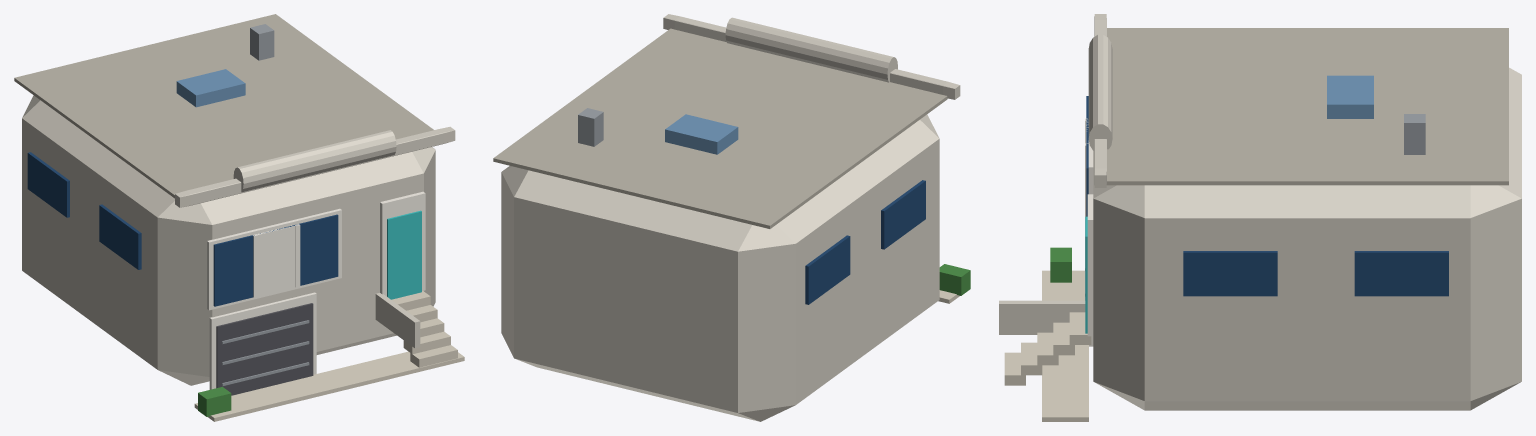
Rendered from sunset_w9_curved_pic.glb.
The picture shows the model from 3 angles, left to right: view 1: azimuth 30°, elevation 25°; view 2: azimuth 150°, elevation 25°; view 3: azimuth 270°, elevation 25°; orthographic projection. The views are drawn at different scales.
Visible parts, largest first — view 1: walls, roofslab, gdoor, pwin, patio, pcurve, door, pmull, pp1, gfr, pfr, skylt (+9 smaller); view 2: walls, roofslab, pcurve, skylt, pp1, sb.002, sb, pipe, hedge; view 3: walls, roofslab, sb.001, sb.003, patio, pcurve, srail, skylt, dfr, pp1, pipe, hedge (+5 smaller).
Part boxes in pixels (x1,y1,x2,y2): walls: [22, 95, 435, 385]; roofslab: [14, 14, 433, 198]; gdoor: [216, 303, 313, 395]; pwin: [213, 214, 338, 306]; patio: [194, 351, 464, 421]; pcurve: [233, 130, 396, 192]; door: [387, 210, 421, 299]; pmull: [257, 225, 295, 296]; pp1: [175, 126, 455, 207]; gfr: [209, 292, 316, 389]; pfr: [207, 208, 341, 310]; skylt: [176, 69, 245, 107]; walls: [501, 114, 939, 421]; roofslab: [493, 28, 947, 228]; pcurve: [725, 17, 897, 82]; skylt: [665, 114, 738, 154]; pp1: [663, 14, 960, 99]; sb.002: [805, 235, 850, 304]; sb: [881, 180, 925, 249]; pipe: [578, 108, 603, 146]; hedge: [939, 264, 970, 295]; walls: [1093, 67, 1521, 410]; roofslab: [1106, 28, 1508, 185]; sb.001: [1183, 251, 1277, 296]; sb.003: [1354, 251, 1448, 296]; patio: [1042, 270, 1088, 421]; pcurve: [1088, 34, 1112, 150]; srail: [999, 300, 1085, 334]; skylt: [1327, 75, 1373, 118]; dfr: [1087, 194, 1093, 336]; pp1: [1094, 14, 1106, 187]; pipe: [1404, 114, 1425, 154]; hedge: [1050, 247, 1071, 282].
Bounding box in the file's own units: 9.2 × 7.1 × 12.2.
